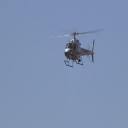helicopter: (54, 31, 105, 68)
